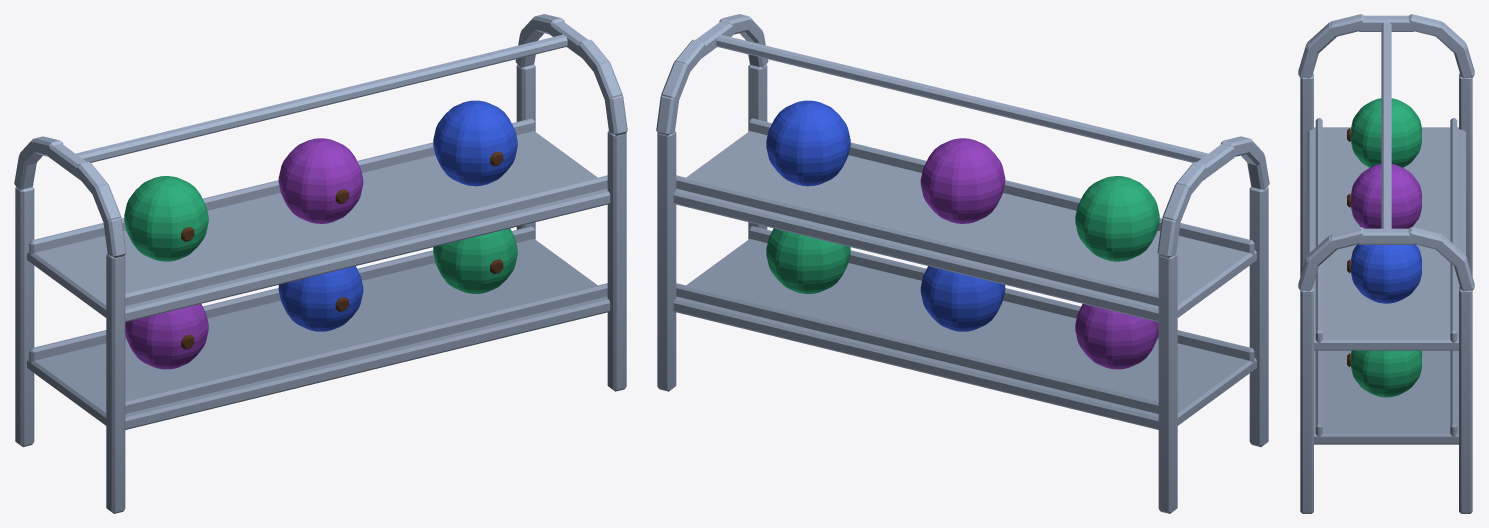
File: source.glb
3 renders of one model, left to right at view 1: azimuth 30°, elevation 25°; view 2: azimuth 150°, elevation 25°; view 3: azimuth 270°, elevation 25°, orthographic. The views are drawn at different scales.
Visible parts, largest first — view 1: ball_rack; view 2: ball_rack; view 3: ball_rack.
Part boxes in pixels (x1,y1,x2,y2): ball_rack: (14,14,627,513); ball_rack: (656,14,1269,513); ball_rack: (1298,14,1474,513).
Bounding box in the file's own units: 1.5 × 0.9055 × 0.511.
1 material, 1 textured.
